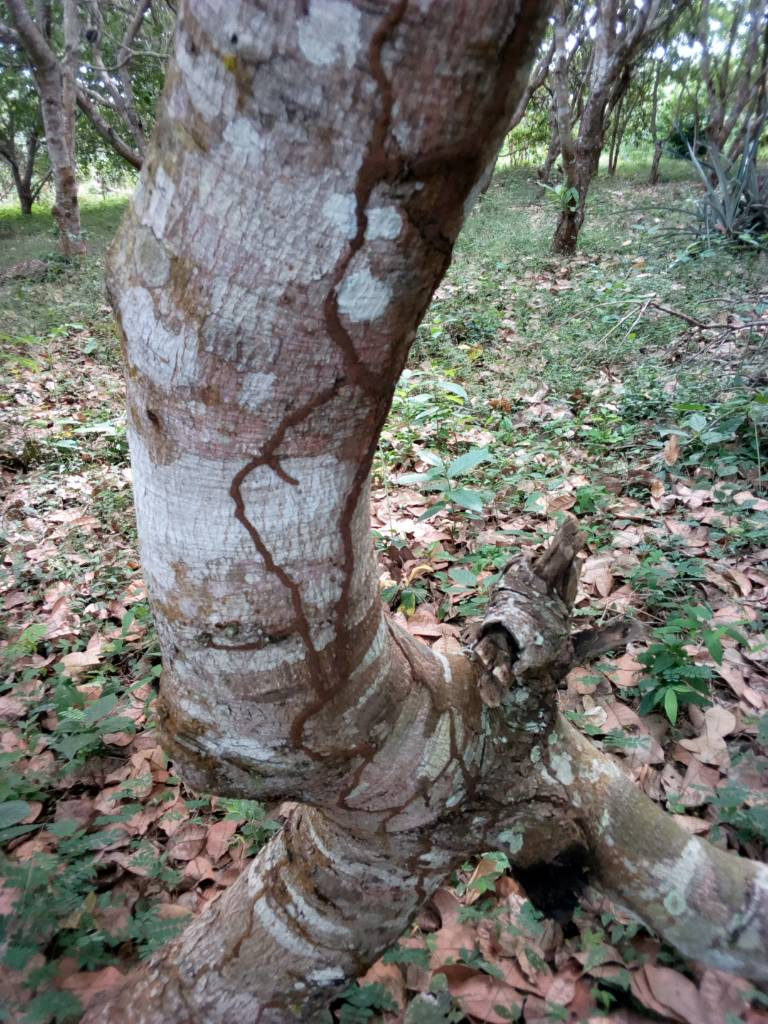Termites: (227, 24, 418, 788)
